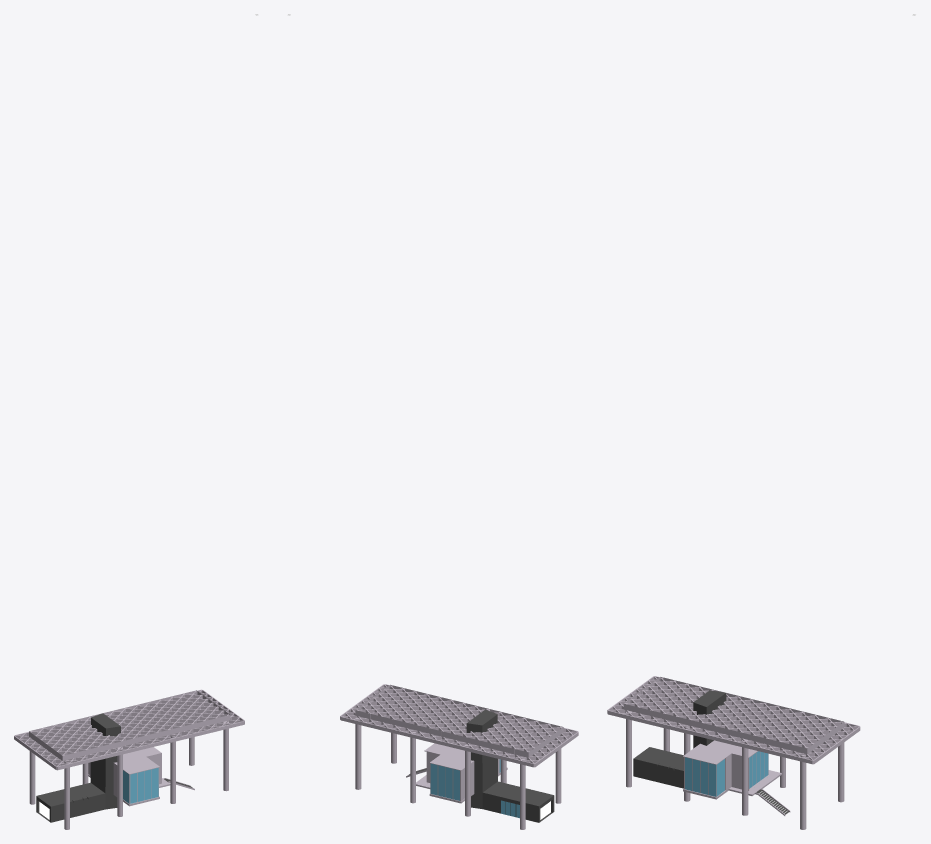
File: gtb.glb
3 views of the same model, side by side, from view 1: azimuth 30°, elevation 25°; view 2: azimuth 150°, elevation 25°; view 3: azimuth 330°, elevation 25° (orthographic). The views are drawn at different scales.
Visible parts, largest first — view 1: Cylinder; view 2: Cylinder; view 3: Cylinder.
Part boxes in pixels (box(x1,y1,x2,y2)): Cylinder: box(14, 689, 244, 829); Cylinder: box(340, 684, 578, 829); Cylinder: box(607, 676, 860, 829).
Size of the model in its own units: 189 by 548 by 60.85.
